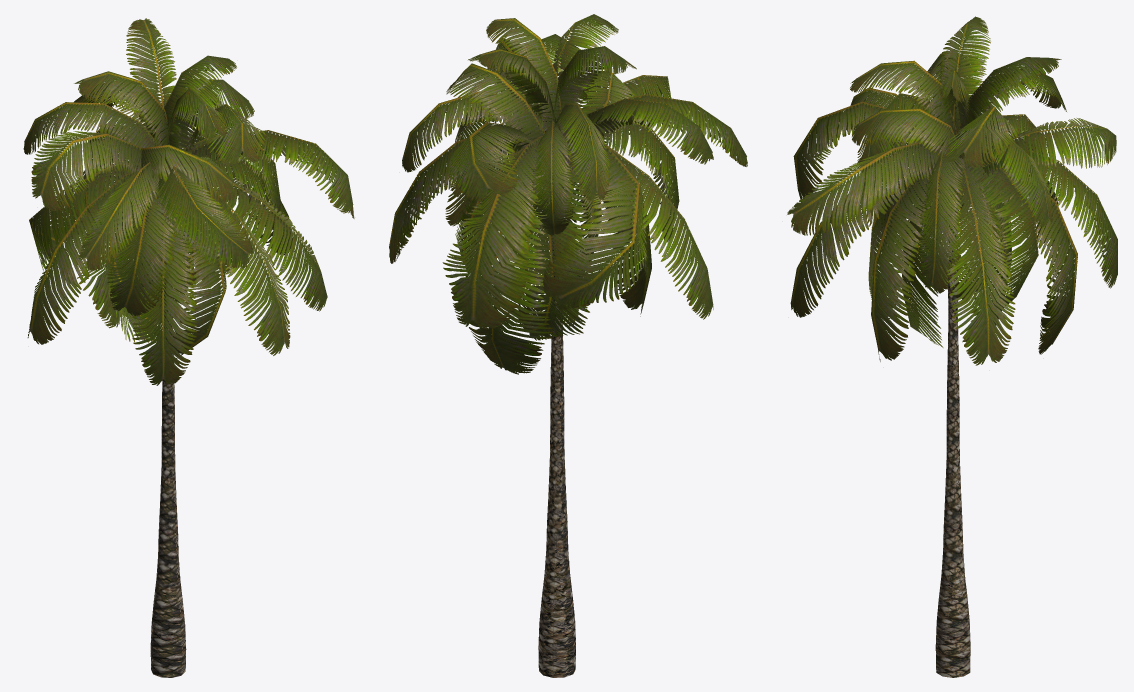
The model's file is palm_tropical_0.glb.
3 views of the same model, side by side, from view 1: azimuth 30°, elevation 25°; view 2: azimuth 150°, elevation 25°; view 3: azimuth 270°, elevation 25° (orthographic). The views are drawn at different scales.
Visible parts, largest first — view 1: palm_tropical_0; view 2: palm_tropical_0; view 3: palm_tropical_0.
Part boxes in pixels (x1,y1,x2,y2): palm_tropical_0: (23,18,354,677); palm_tropical_0: (389,14,747,677); palm_tropical_0: (787,16,1117,677).
Size of the model in its own units: 6.19 by 12.49 by 6.1.
Materials: 1 (1 with a texture image).
